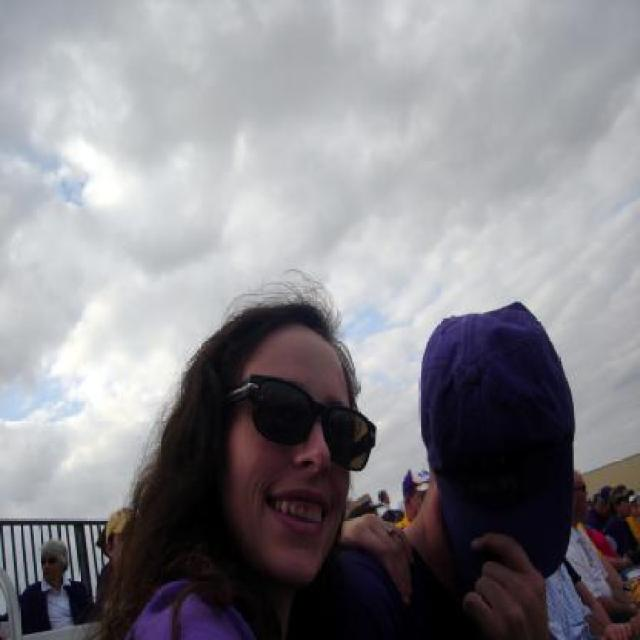face_nomask: (241, 376, 362, 549)
glasses: (221, 387, 370, 468)
hand_noglove: (454, 526, 549, 640)
head_nohelmet: (209, 294, 348, 374)
person: (109, 300, 425, 640)
